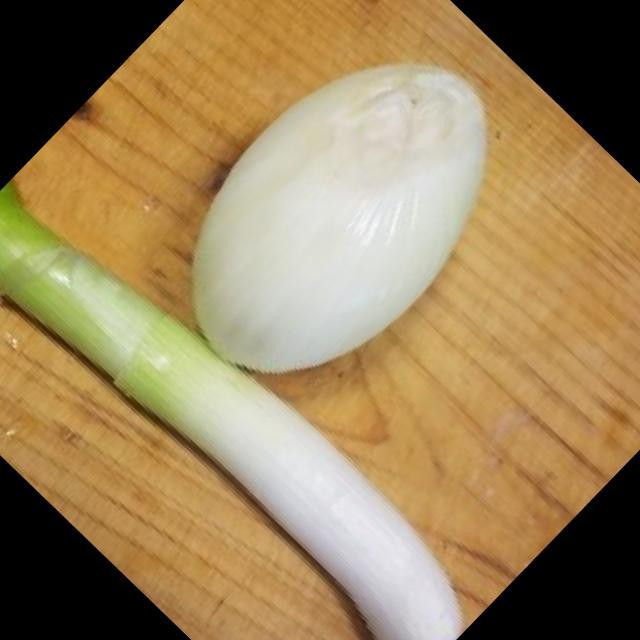Onion: (191, 66, 486, 373)
